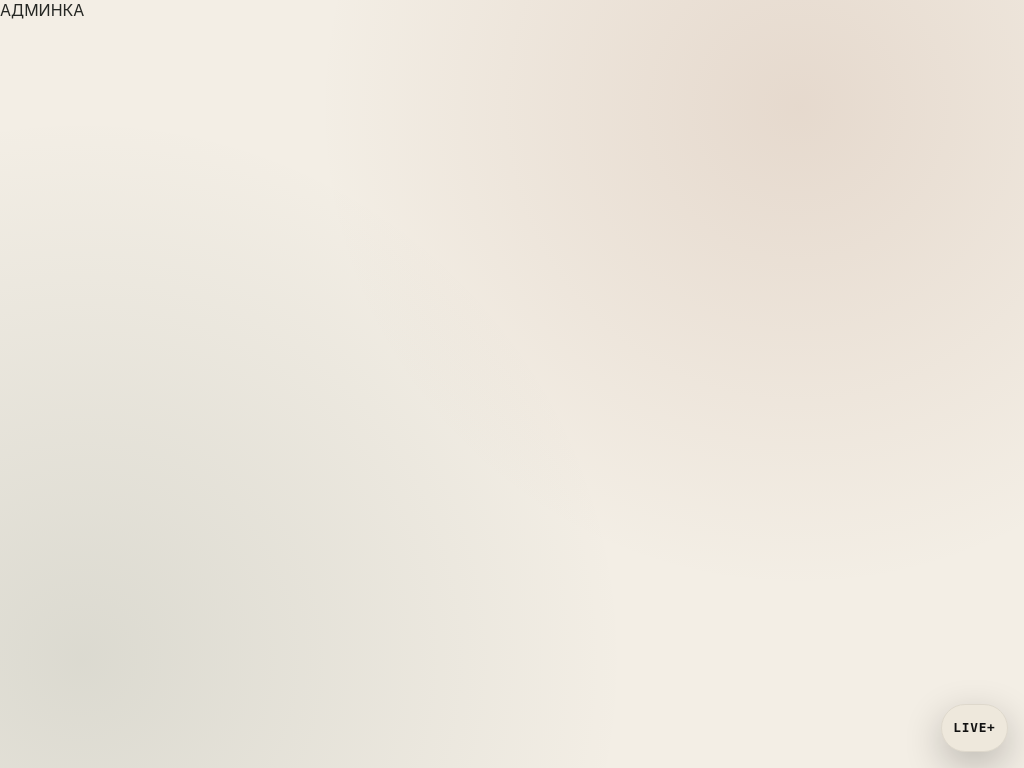
Test: AdminWeddingLiveDock radio › sends a wedding radio preset from LIVE+
Click the button with aria-label "Открыть LIVE+ пульт".
click(974, 728)  # box [941, 704, 1008, 752]
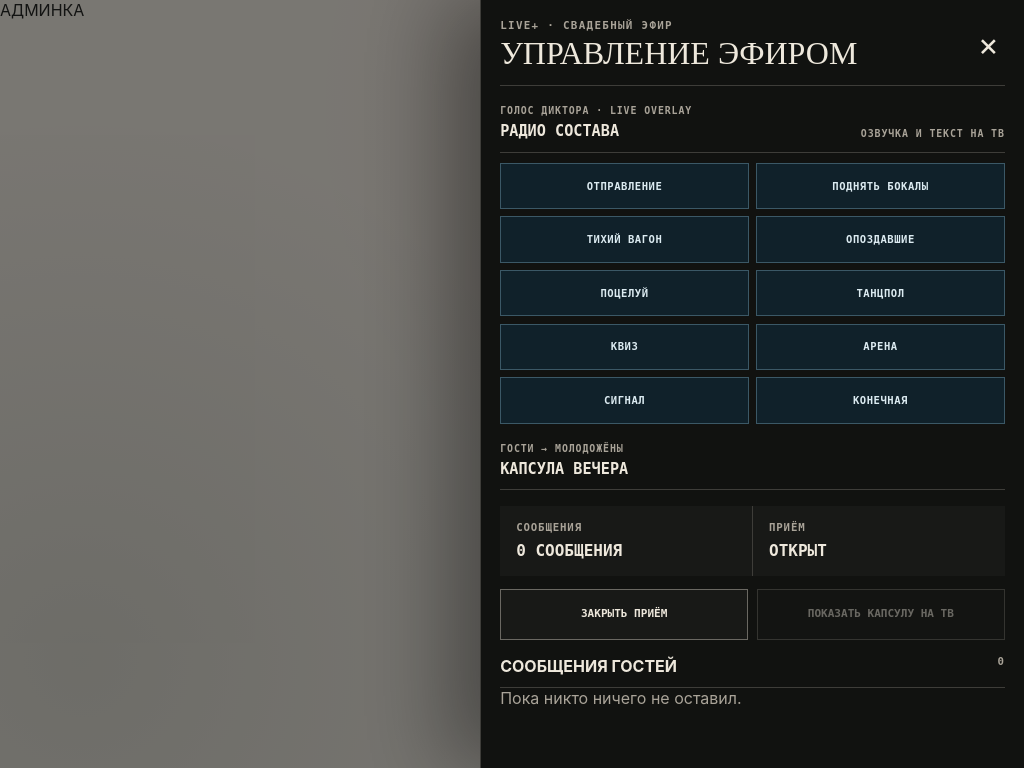
Check: the text "РАДИО СОСТАВА" is shown, box [500, 122, 619, 140]
Click the button with aria-label "Эфир: ТАНЦПОЛ".
click(880, 293)  # box [756, 270, 1005, 316]
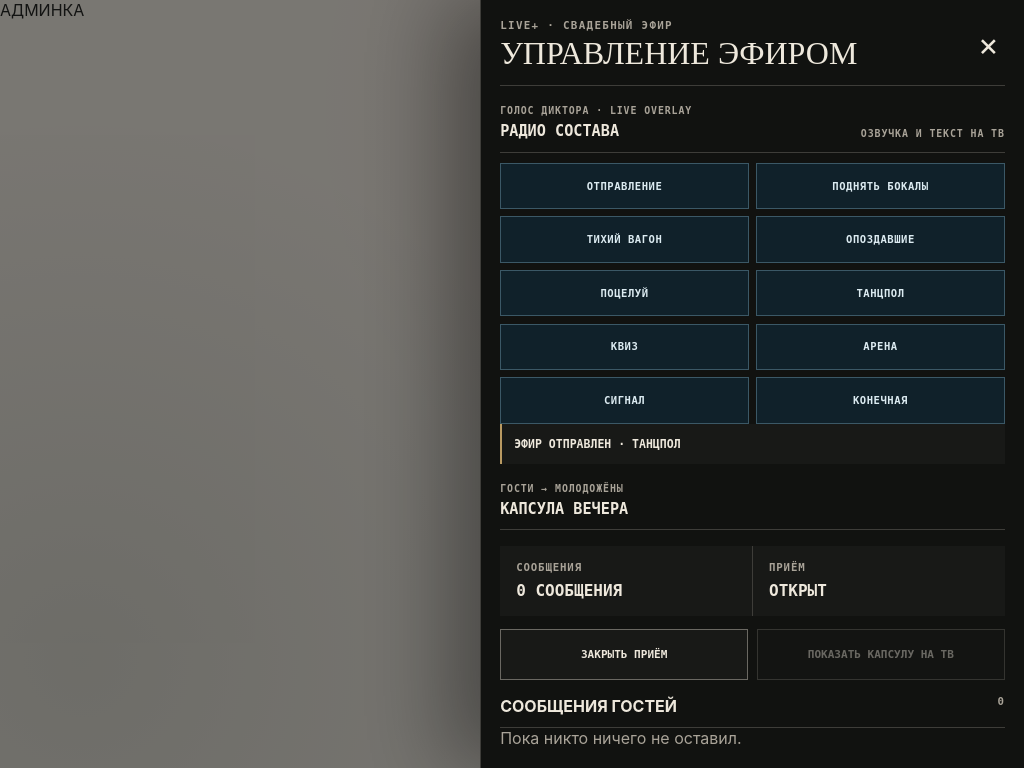
Check: the text "ЭФИР ОТПРАВЛЕН · ТАНЦПОЛ" is shown, box [500, 424, 1005, 464]
